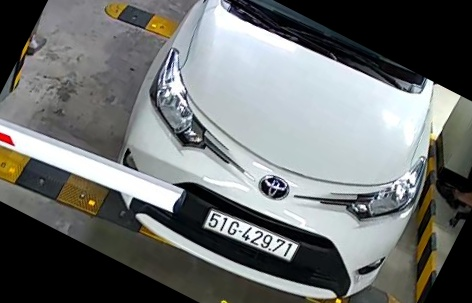plate: (198, 203, 301, 264)
